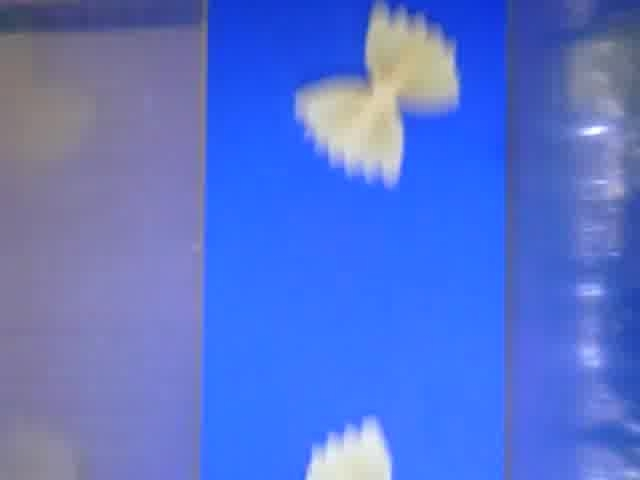farfalle: (292, 1, 463, 189), (301, 417, 394, 480)
